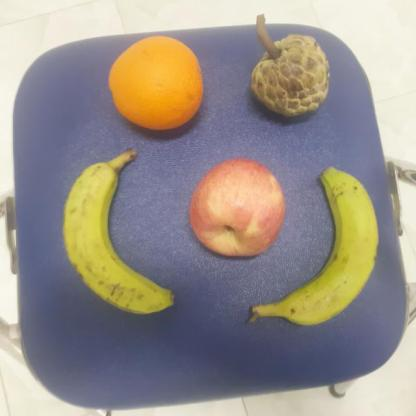annona: (248, 32, 330, 118)
apple: (185, 156, 289, 263)
banana: (246, 165, 380, 328), (59, 145, 174, 315)
orange: (106, 35, 204, 130)
